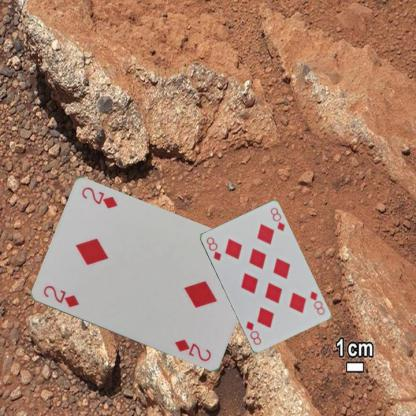2d: (41, 283, 80, 309)
8d: (307, 288, 326, 316), (204, 234, 222, 262)
